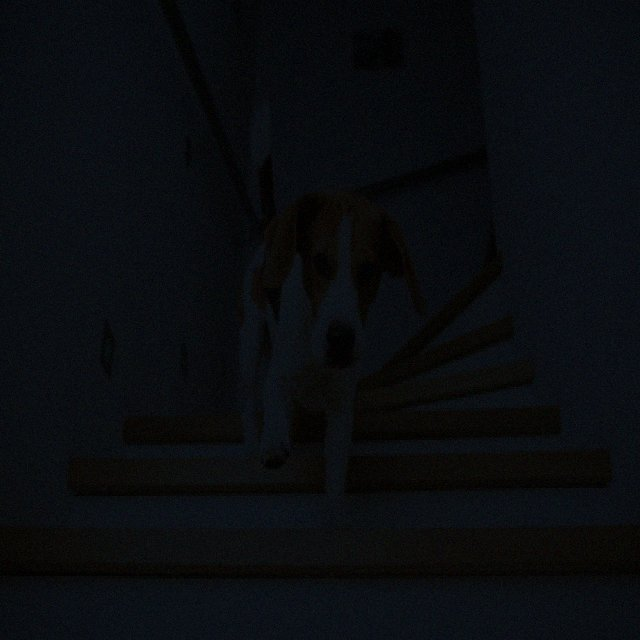stair: (0, 256, 638, 637)
